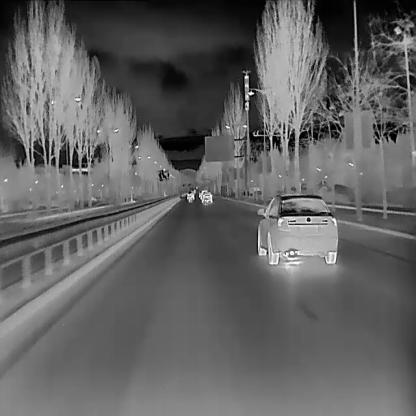car: (257, 191, 338, 265), (201, 191, 212, 203), (186, 190, 194, 200), (199, 189, 206, 199), (194, 184, 197, 188)
